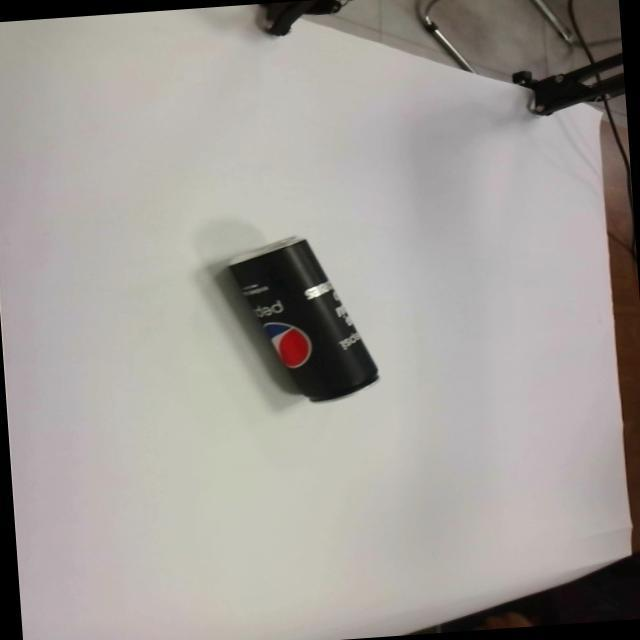debris: (226, 233, 382, 409)
